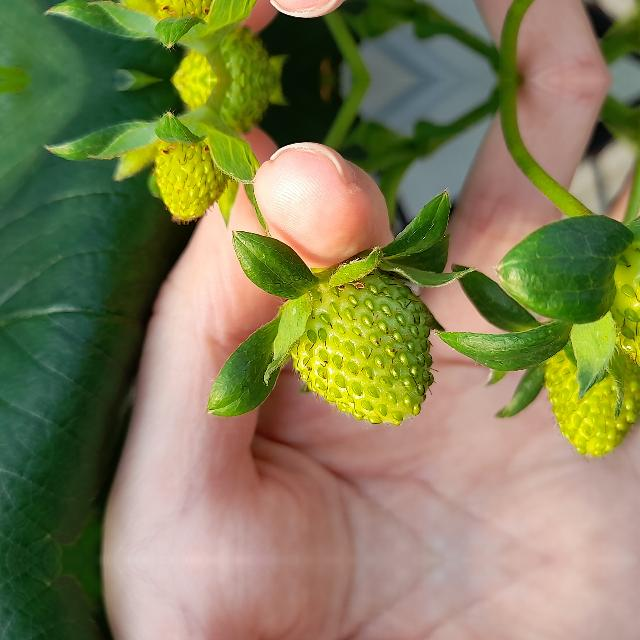Health_25: (290, 269, 438, 429)
